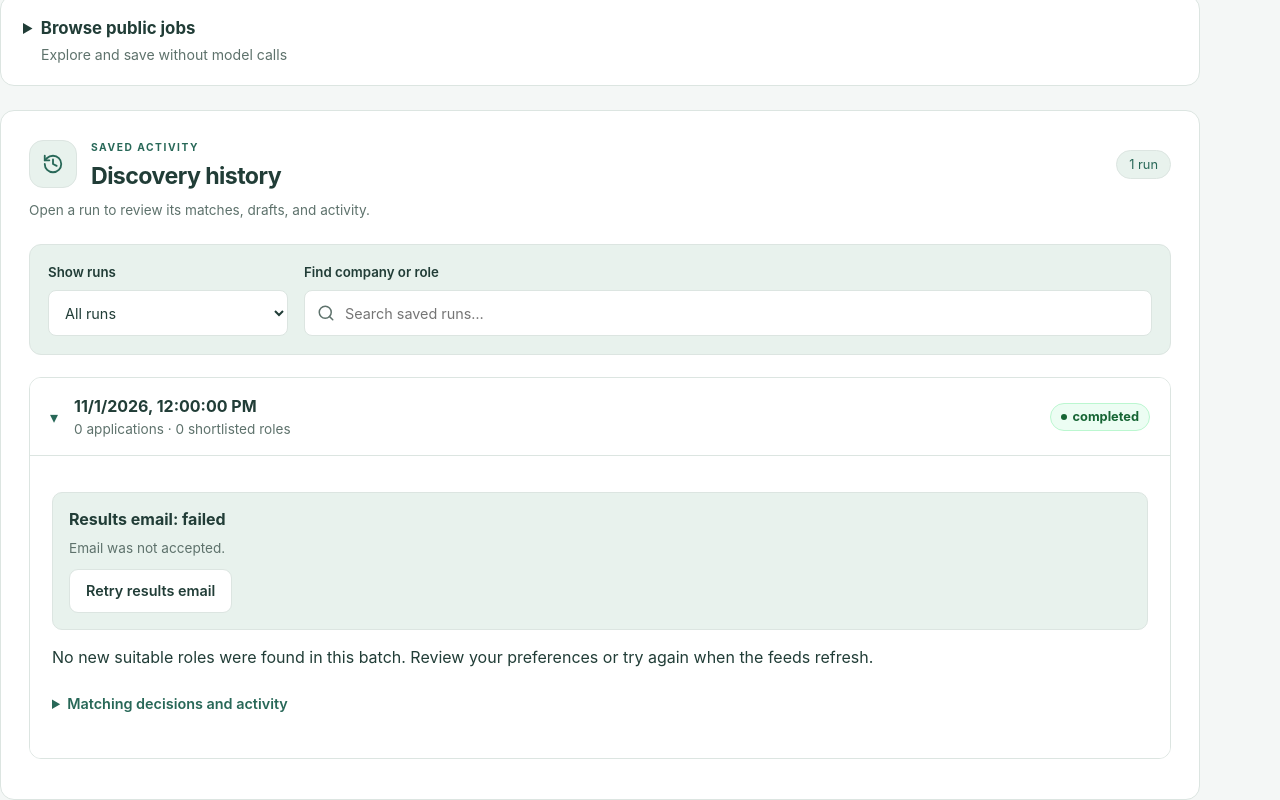
Test: retries a results email without restarting discovery
(page scrolled)
Step 1. Click the button "Retry results email" → (151, 590), box [69,568,232,612]
(page scrolled)
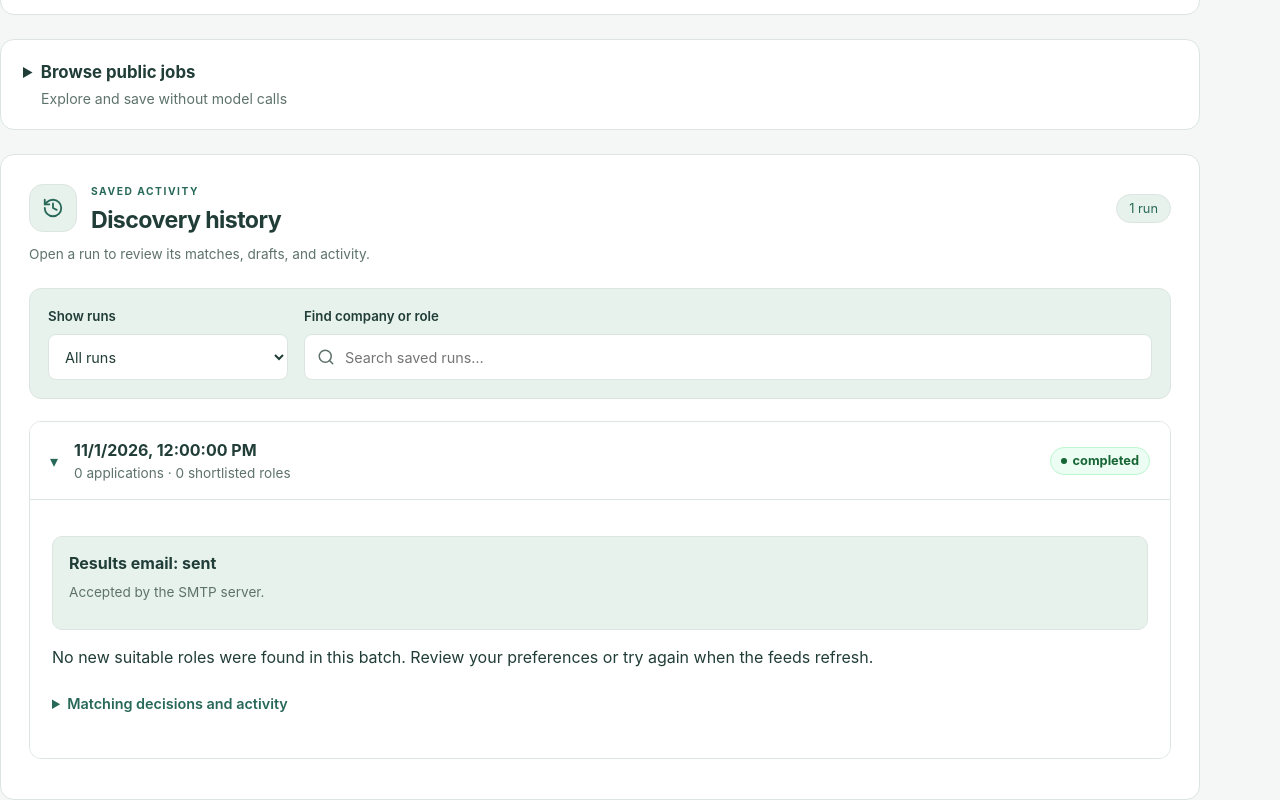
Check: the text "Results email: sent" is shown, box [69,553,216,573]
Check: the button "Retry results email" is gone
